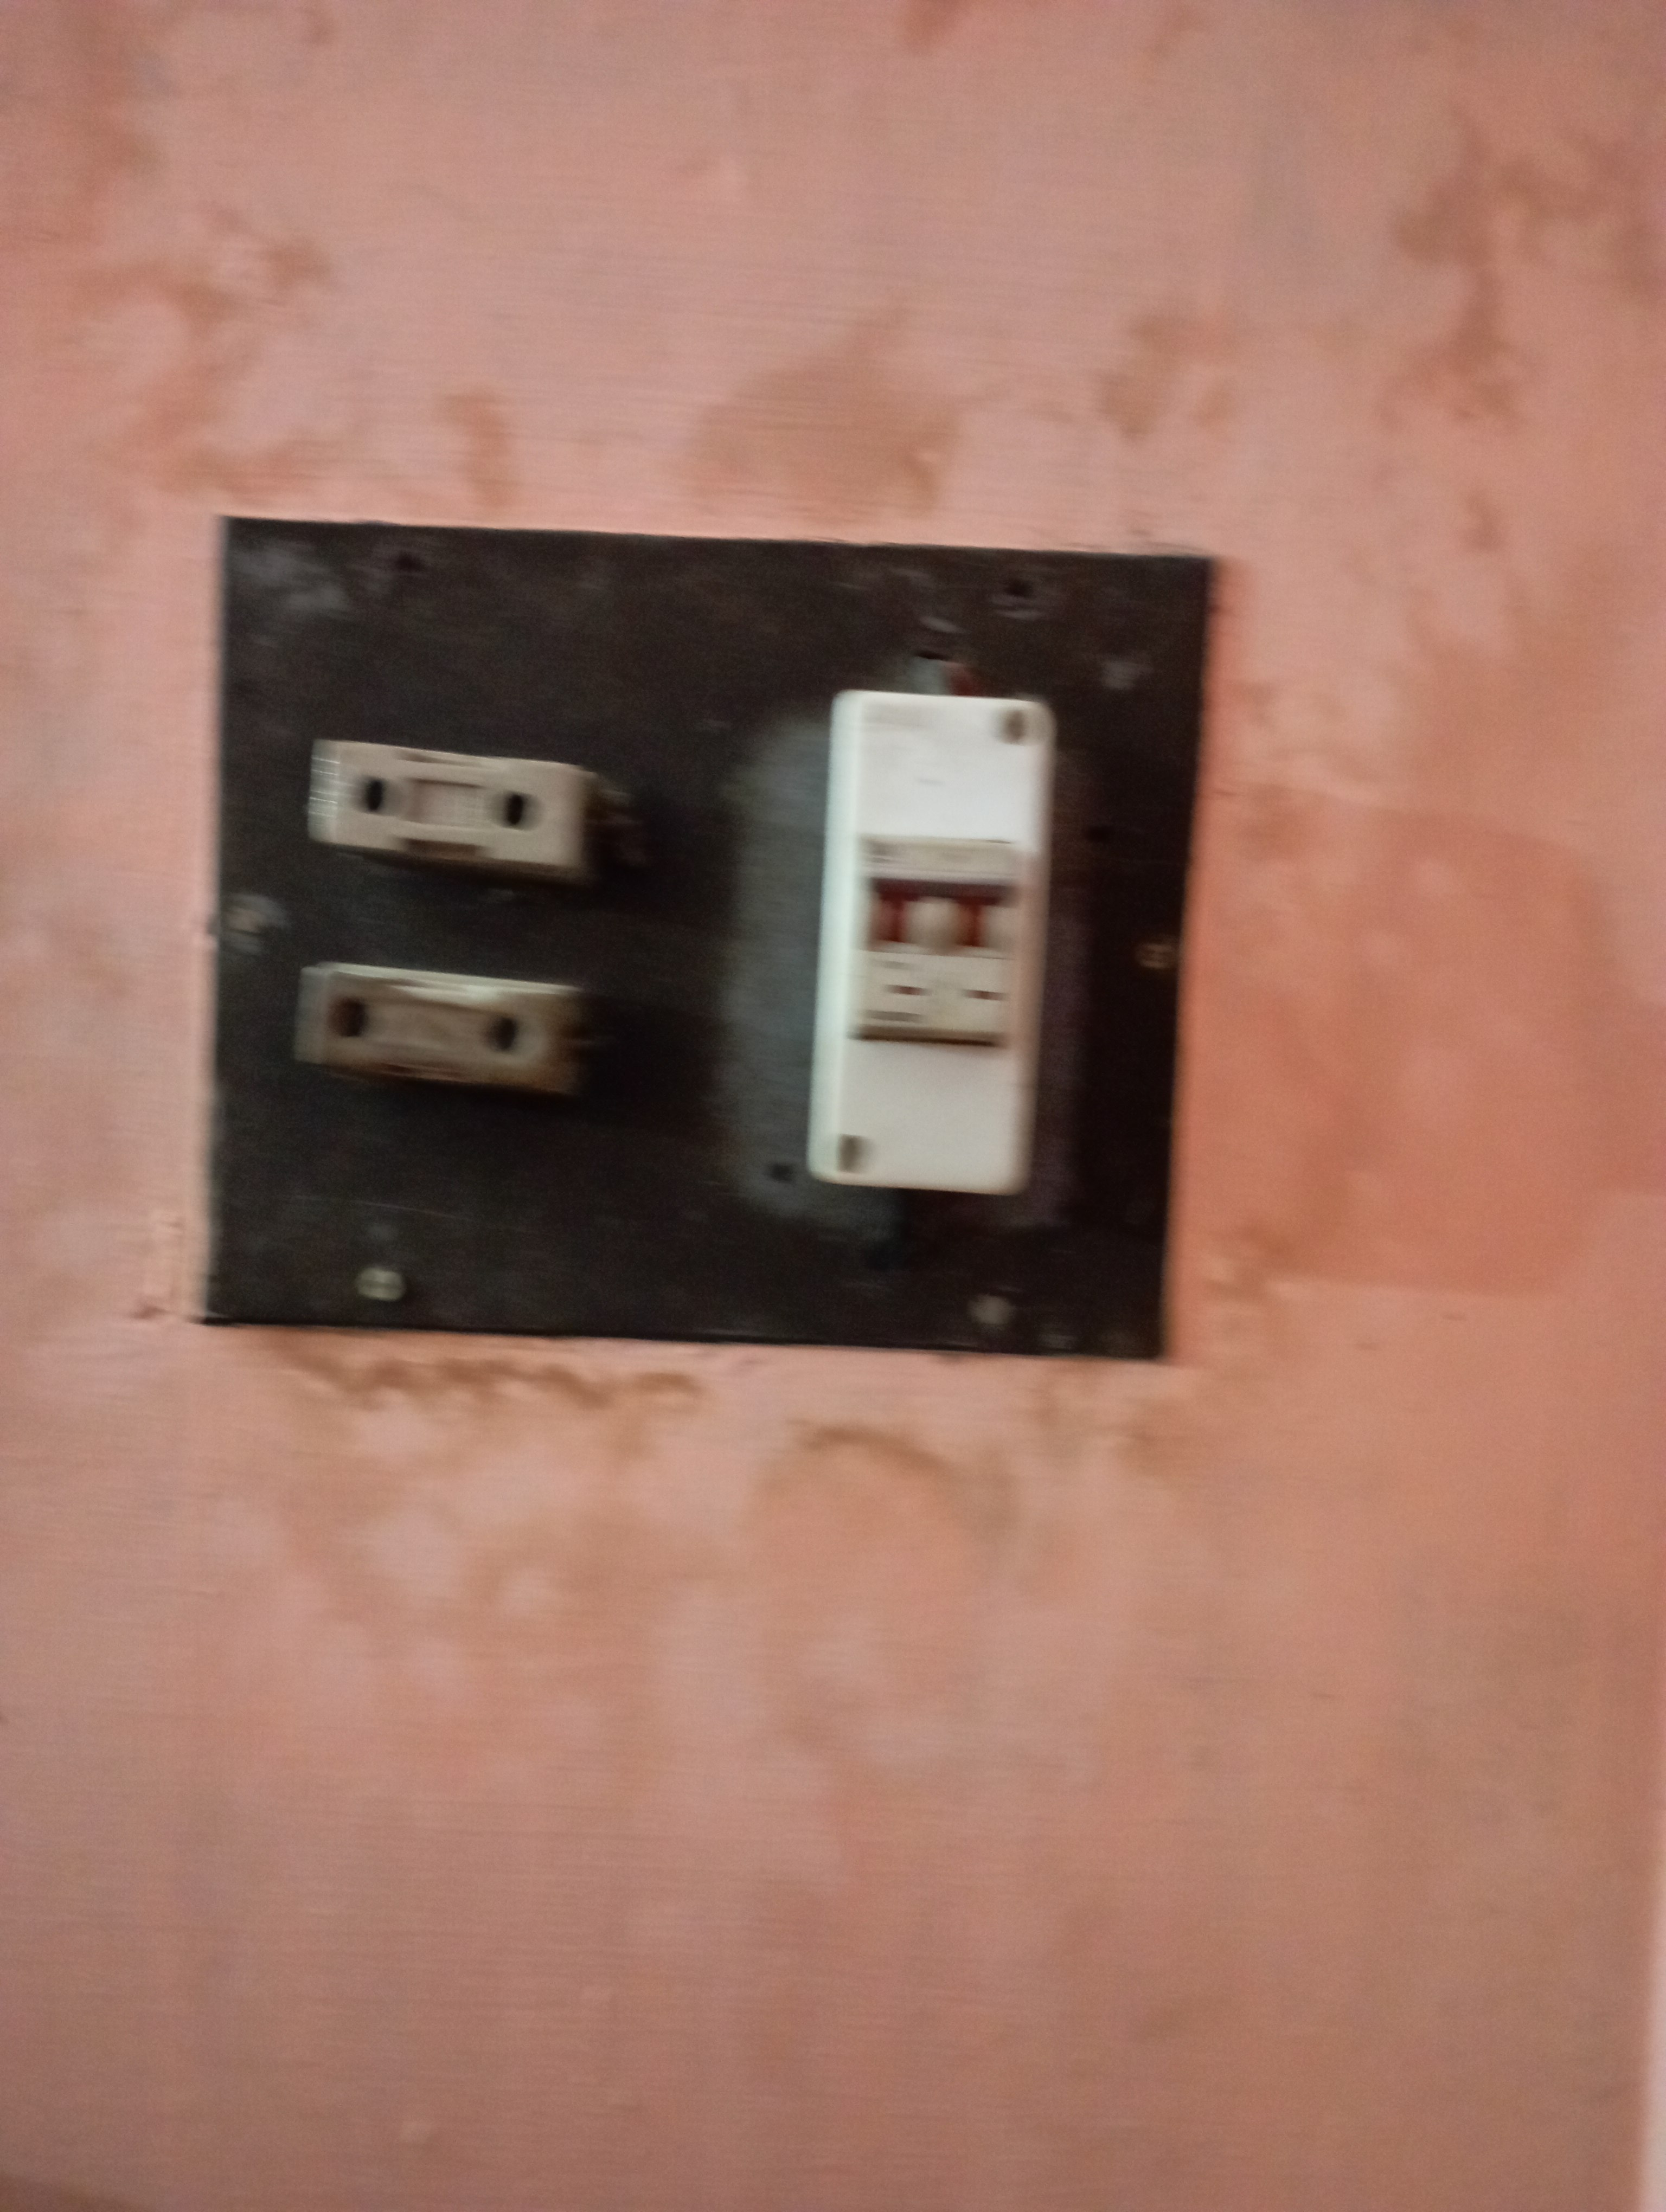ciruit_breaker: (781, 684, 1089, 1224)
fuse: (264, 951, 626, 1102), (317, 719, 604, 881)
